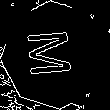M_E: (28, 29, 82, 81)
